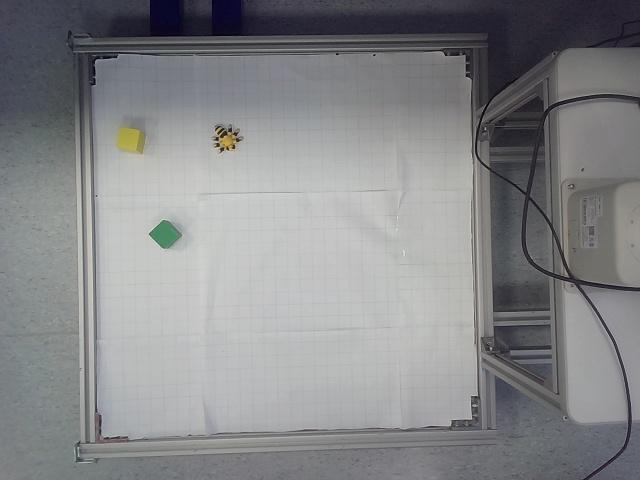frelon: (213, 125, 244, 154)
